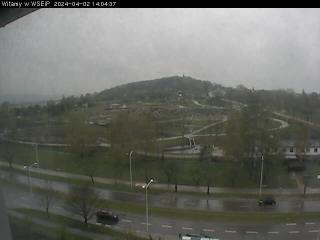car: (95, 208, 120, 222), (259, 196, 277, 206)
